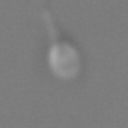normal: (36, 1, 66, 43)
